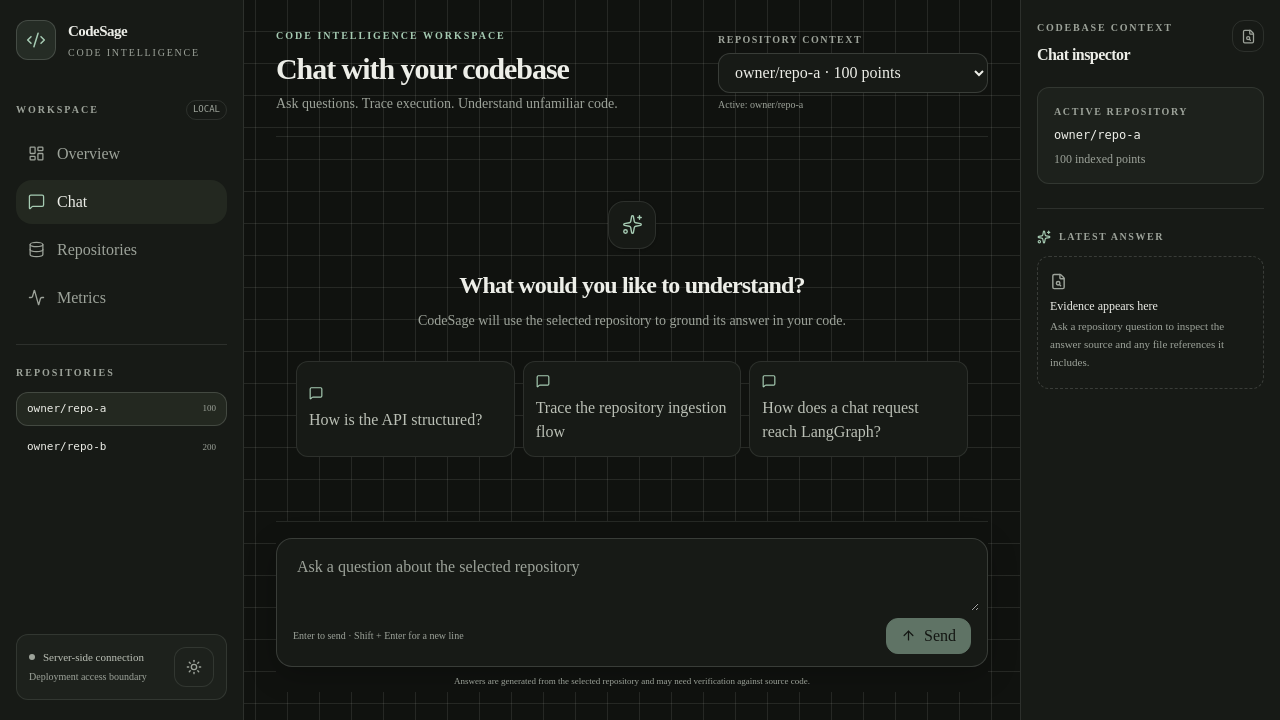
Test: ChatPage › Page rendering › enables submit button when input is not empty and repository selected
The width and height of the screenshot is (1280, 720).
Type "test question" into the text box with placeholder "Ask a question about the selected repository". click: [632, 578]
box: [285, 546, 979, 610]
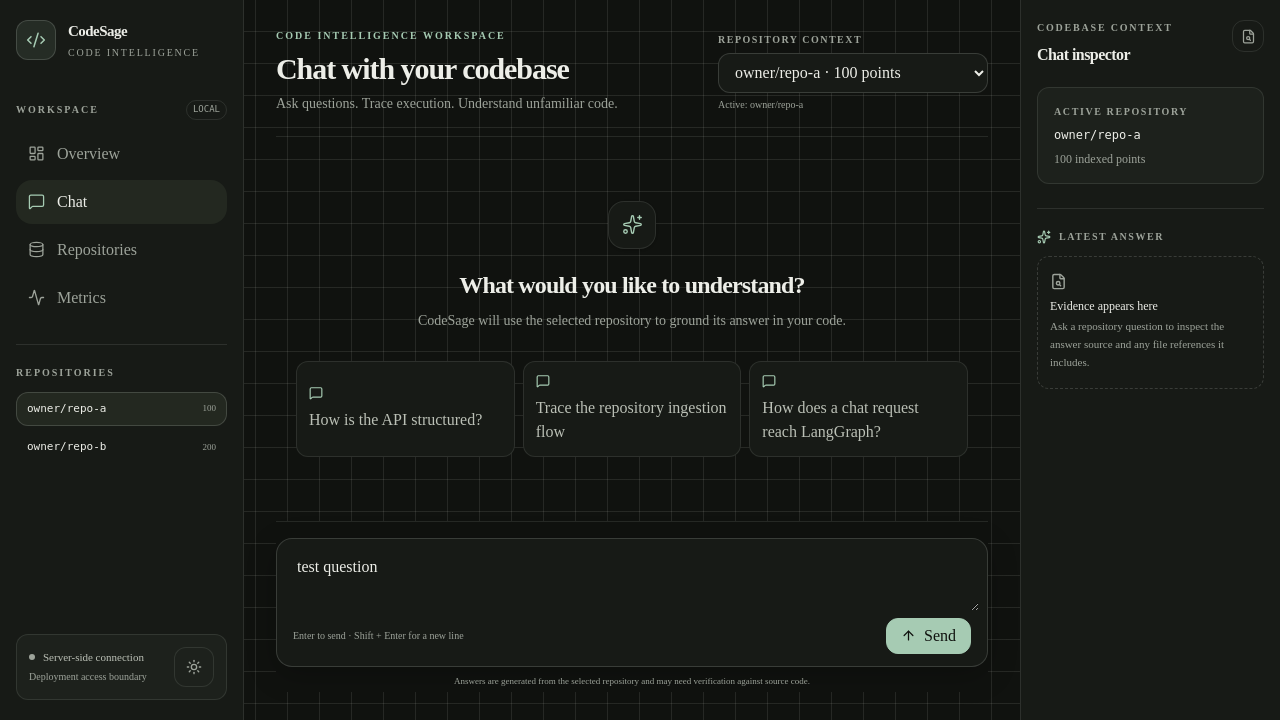
Expected: the button with aria-label "submit" is enabled, [886, 618, 971, 654]
